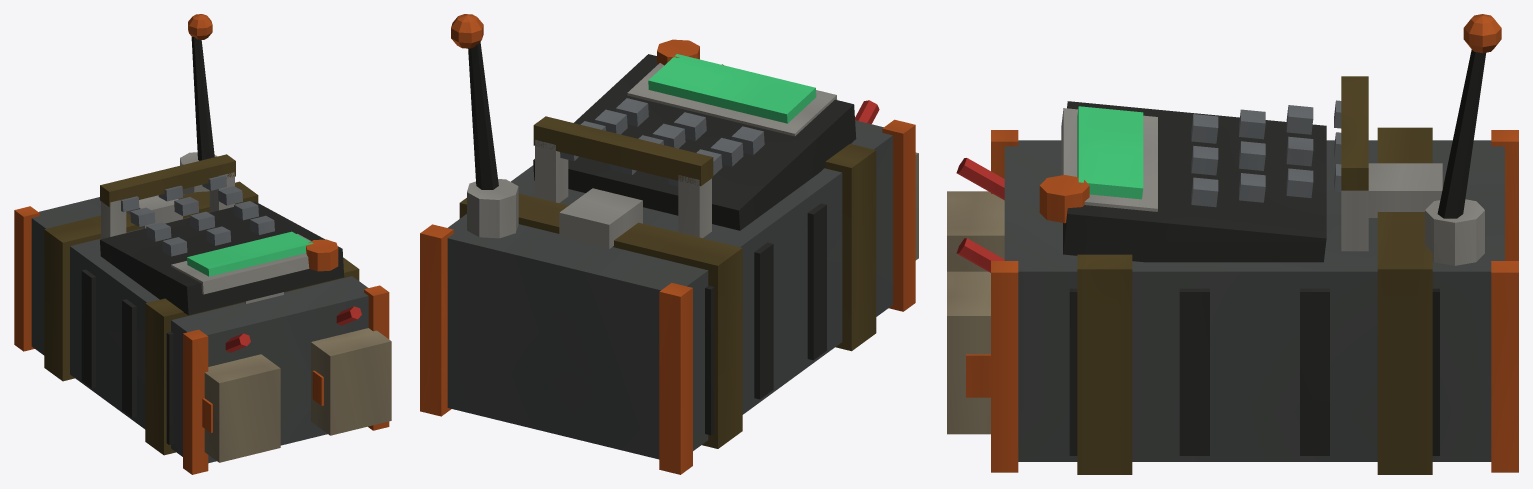
The picture shows the model from 3 angles, left to right: view 1: azimuth 30°, elevation 25°; view 2: azimuth 150°, elevation 25°; view 3: azimuth 270°, elevation 25°; orthographic projection. The views are drawn at different scales.
Visible parts, largest first — view 1: bomb; view 2: bomb; view 3: bomb.
Part boxes in pixels (x1=…): bomb: x1=14, y1=14, x2=391, y2=474; bomb: x1=420, y1=14, x2=918, y2=474; bomb: x1=947, y1=14, x2=1518, y2=474.
Size of the model in its own units: 0.2009 by 0.2907 by 0.34.
Materials: 1 (1 with a texture image).
